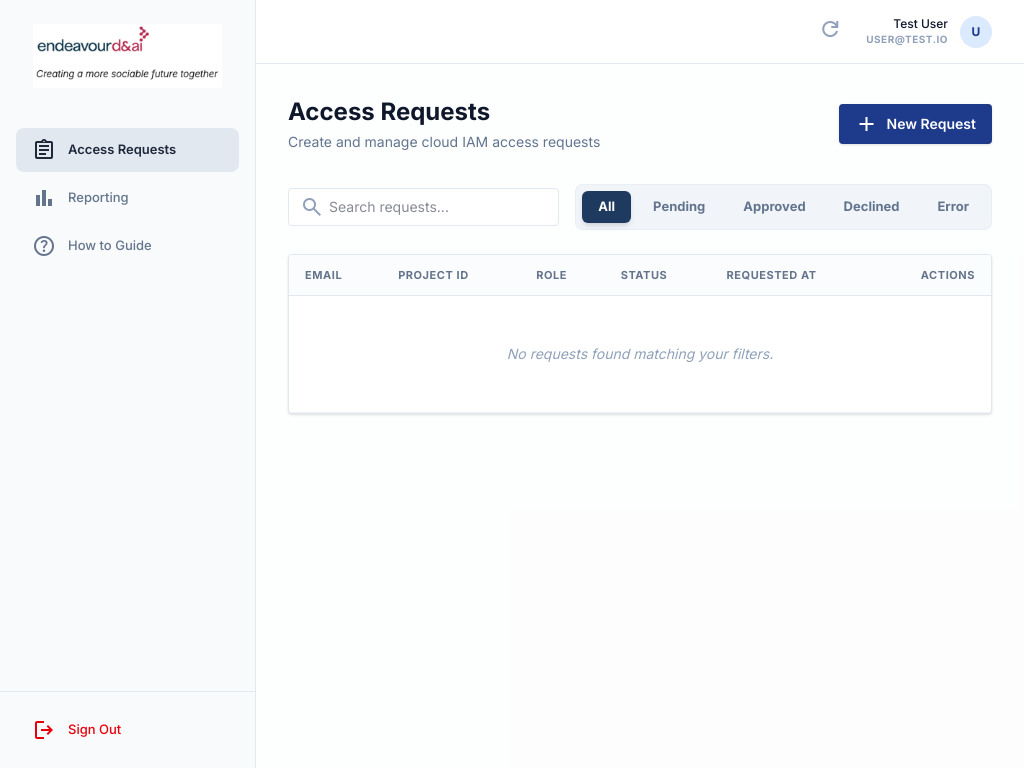
App › toPercent returns 0% when there are no requests
Check: the text "Access Requests" is shown, box [68,140,176,160]
Click the text "Reporting".
click(98, 198)  # box [68,188,129,208]
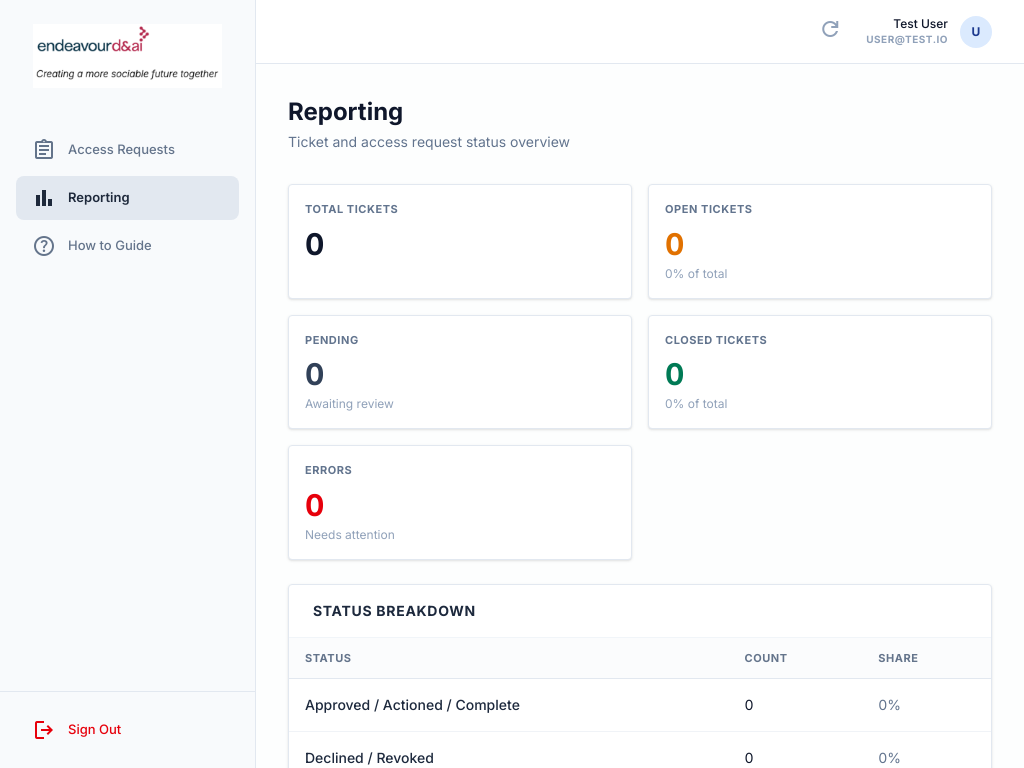
Check: the text "0%" in the row of "Approved / Actioned / Complete" is shown, box [862,678,991,732]
